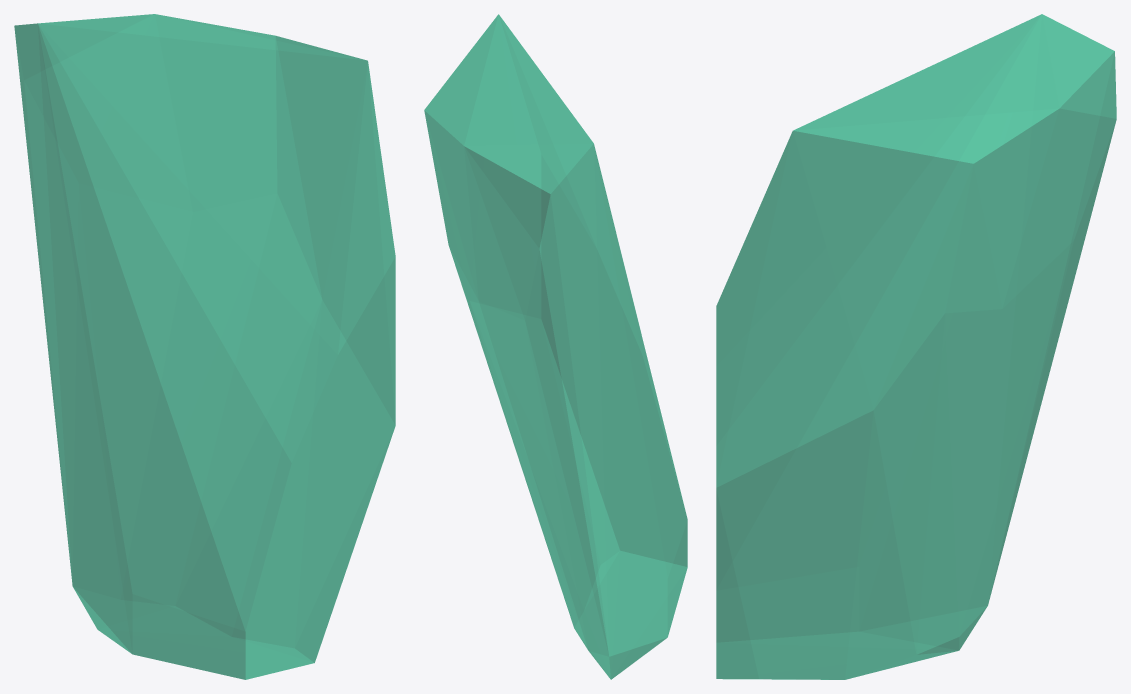
3 views of the same model, side by side, from view 1: azimuth 30°, elevation 25°; view 2: azimuth 150°, elevation 25°; view 3: azimuth 270°, elevation 25° (orthographic). The views are drawn at different scales.
Parts seen in each view (by area): view 1: Shape_IndexedFaceSet.040_Shape_IndexedFaceSet.4386; view 2: Shape_IndexedFaceSet.040_Shape_IndexedFaceSet.4386; view 3: Shape_IndexedFaceSet.040_Shape_IndexedFaceSet.4386.
Boxes of the visible parts, <box> form: Shape_IndexedFaceSet.040_Shape_IndexedFaceSet.4386: <box>14,14,395,679</box>; Shape_IndexedFaceSet.040_Shape_IndexedFaceSet.4386: <box>424,14,687,679</box>; Shape_IndexedFaceSet.040_Shape_IndexedFaceSet.4386: <box>716,14,1116,679</box>.
Size of the model in its own units: 0.1184 by 0.3083 by 0.1789.
